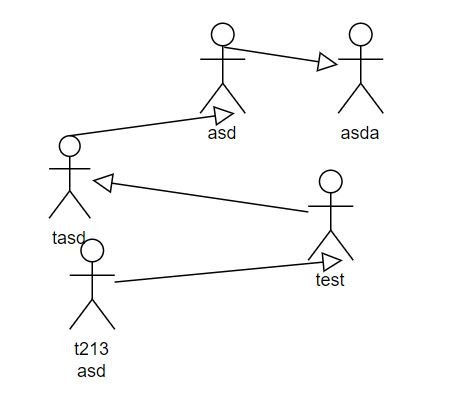actor: (66, 237, 115, 329), (336, 23, 384, 116), (310, 168, 355, 261), (201, 23, 246, 113), (50, 136, 91, 219)
generalization: (93, 173, 308, 213), (115, 251, 343, 282), (67, 106, 233, 137), (226, 44, 337, 71)
text: (72, 338, 111, 381), (333, 126, 381, 143), (311, 270, 351, 289), (52, 228, 89, 247), (207, 124, 239, 141)
